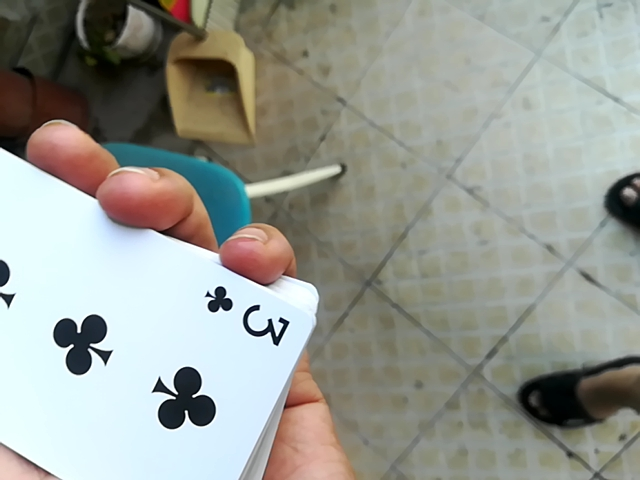mh 3: (0, 134, 311, 480)
